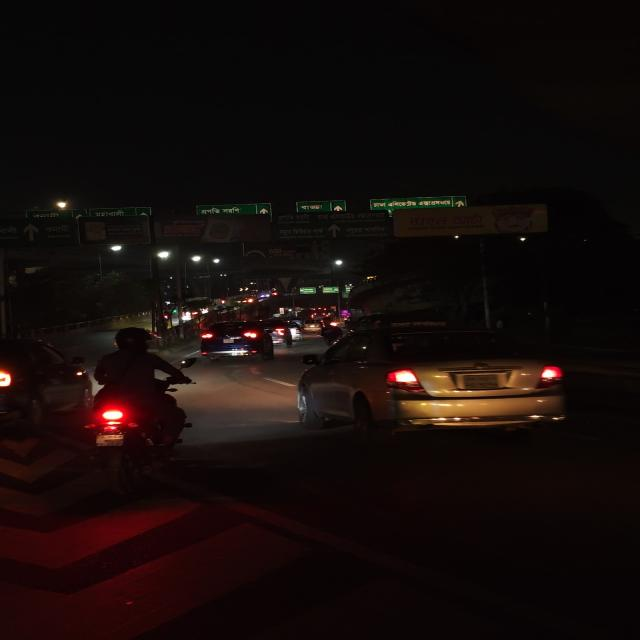car: (294, 324, 569, 442), (0, 337, 90, 433), (196, 319, 277, 365)
motorcycle: (82, 329, 198, 489)
